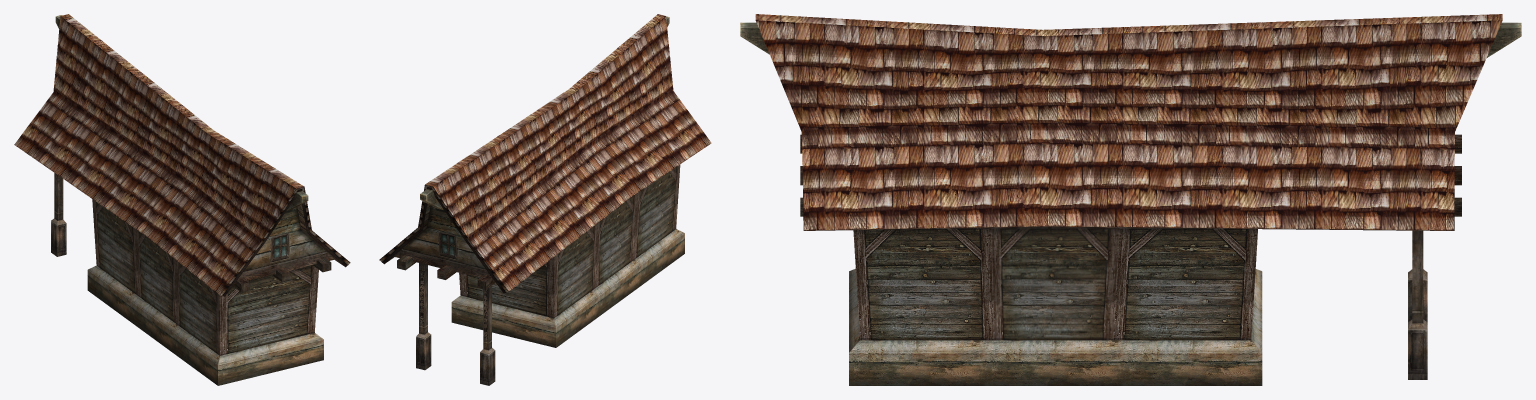
The model's file is loc2_05.glb.
3 renders of one model, left to right at view 1: azimuth 30°, elevation 25°; view 2: azimuth 150°, elevation 25°; view 3: azimuth 270°, elevation 25°, orthographic. The views are drawn at different scales.
Parts seen in each view (by area): view 1: loc2_05-col; view 2: loc2_05-col; view 3: loc2_05-col.
Part boxes in pixels (bbox=[...]): loc2_05-col: bbox=[14, 14, 350, 385]; loc2_05-col: bbox=[379, 14, 711, 385]; loc2_05-col: bbox=[740, 14, 1521, 385].
Size of the model in its own units: 7.26 by 11.13 by 23.57.
6 materials, 6 textured.
